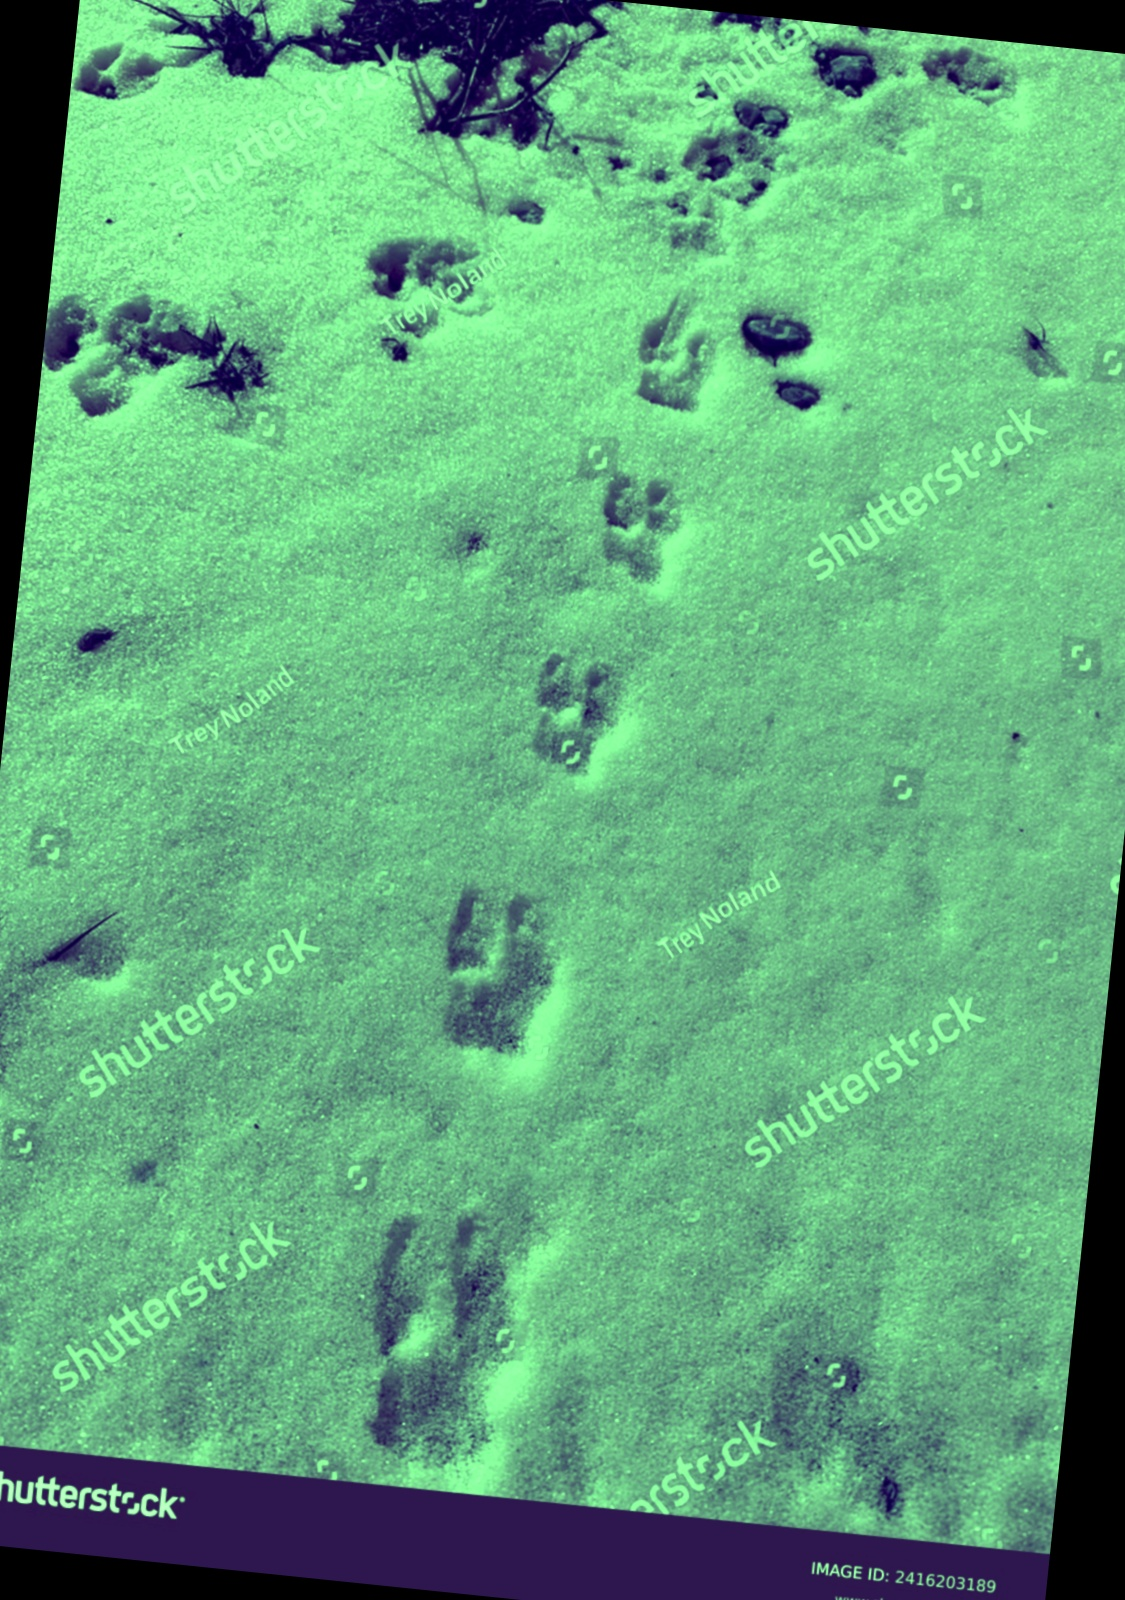lapin: (332, 1173, 553, 1493), (408, 846, 599, 1093), (502, 625, 678, 817), (629, 69, 794, 267), (571, 433, 713, 604), (619, 274, 737, 435)
